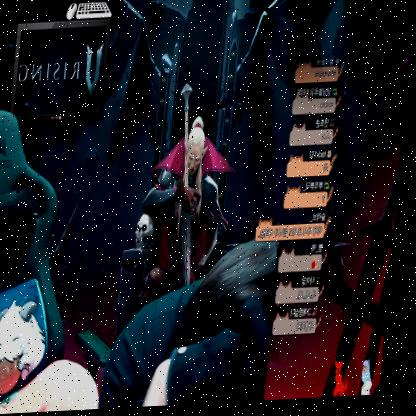streamer: (106, 236, 284, 410)
